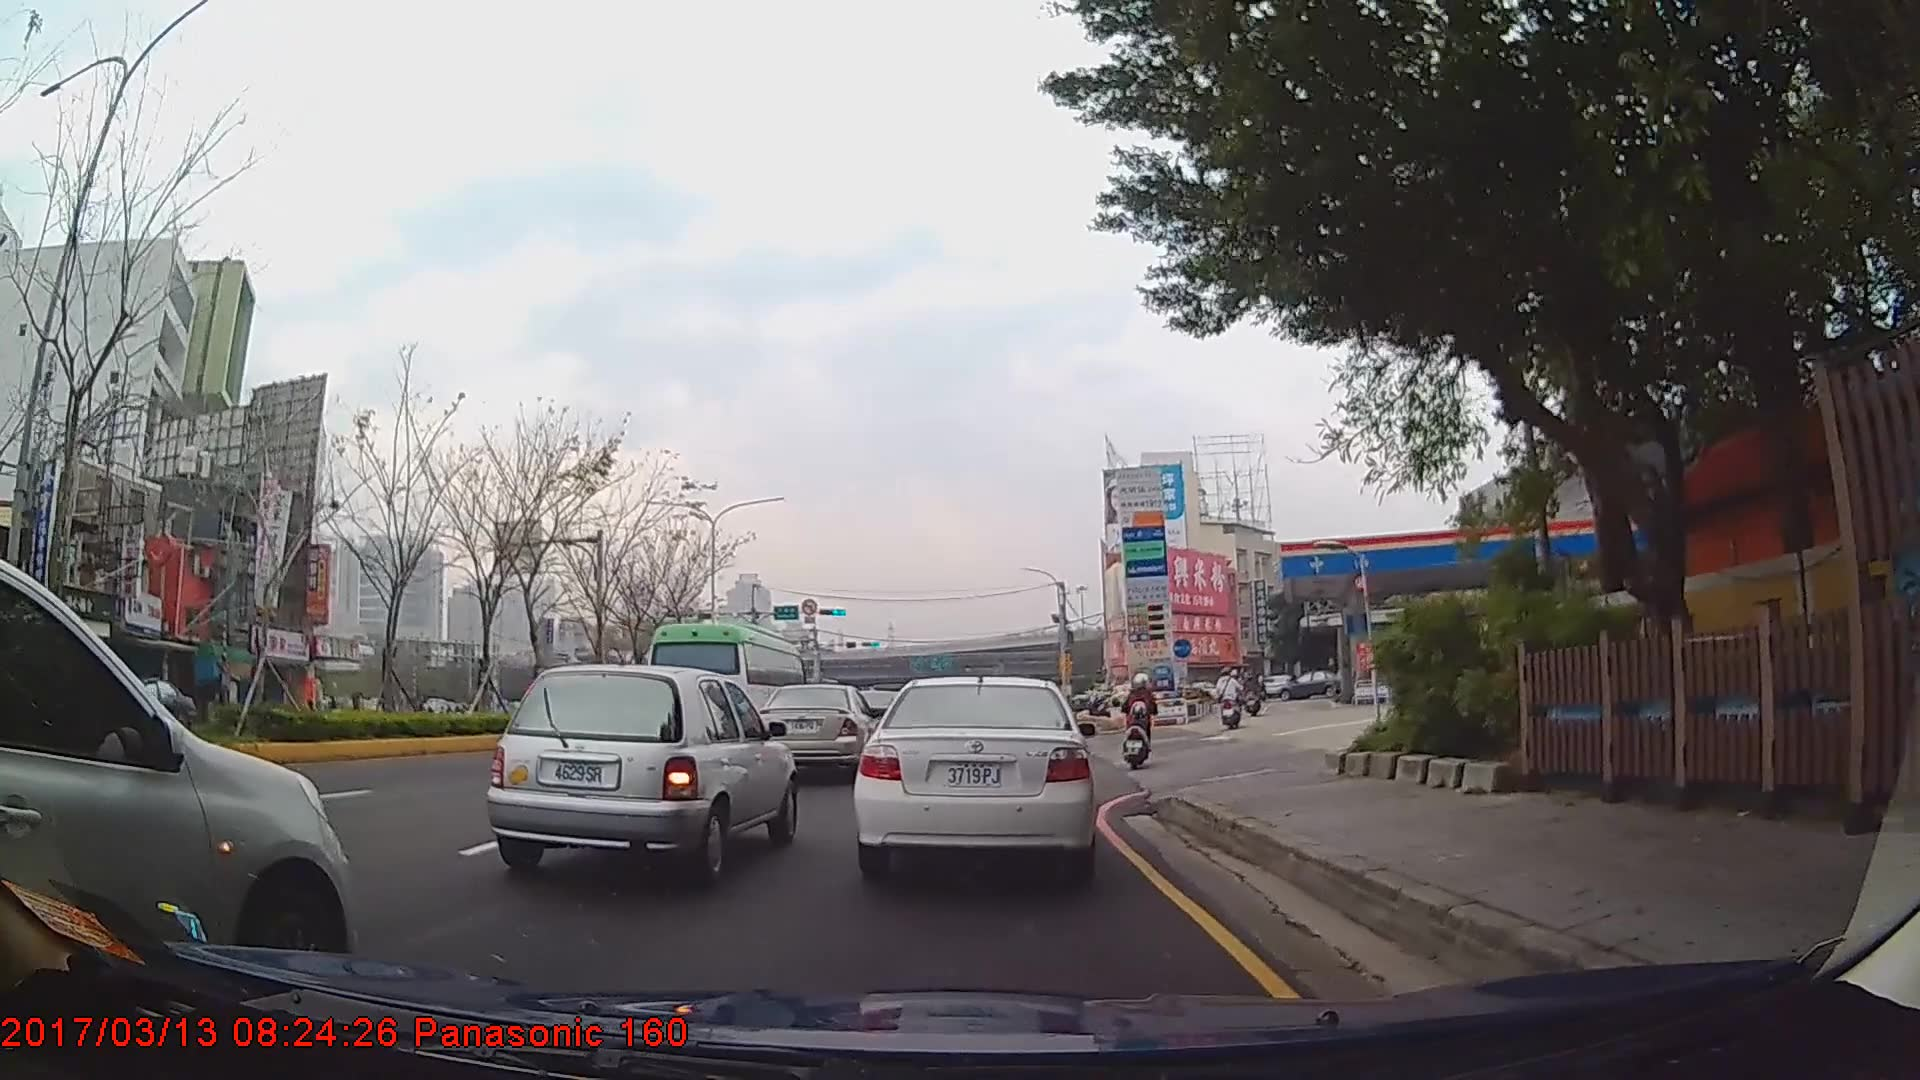rider: (1124, 672, 1158, 764), (1215, 664, 1244, 728)
vehicle: (0, 557, 351, 993), (487, 660, 800, 883), (859, 673, 1095, 881), (642, 619, 807, 754), (752, 682, 881, 776), (98, 673, 200, 736), (1275, 668, 1345, 698)
